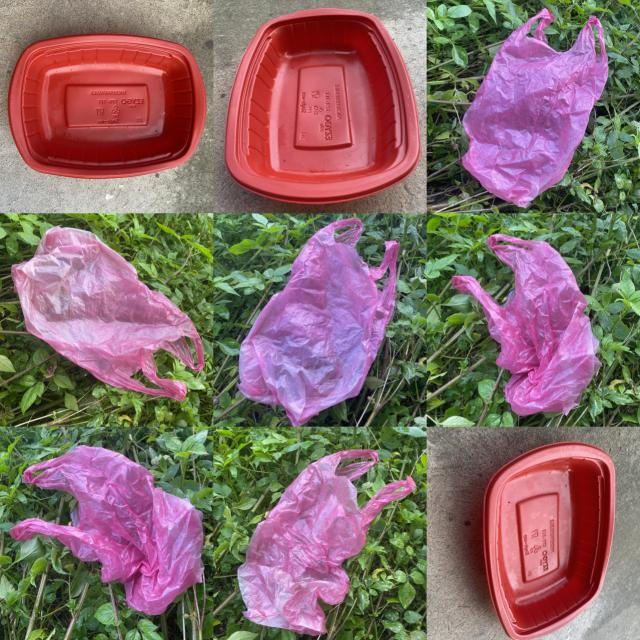Single-layer Plastic: (11, 226, 204, 401), (239, 219, 400, 426), (10, 445, 202, 615), (238, 450, 415, 634), (462, 9, 609, 207), (451, 234, 601, 415)
